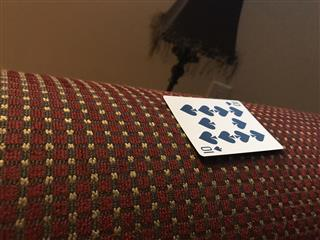TenOfSpades: (162, 94, 284, 157)
